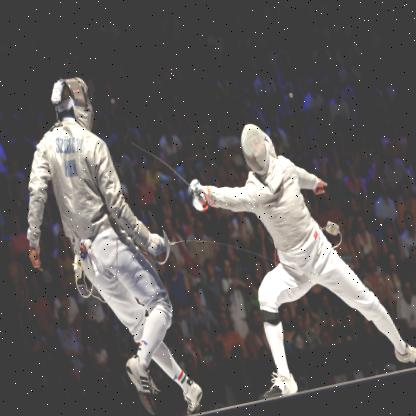fencer: (0, 53, 234, 415), (167, 85, 415, 409)
